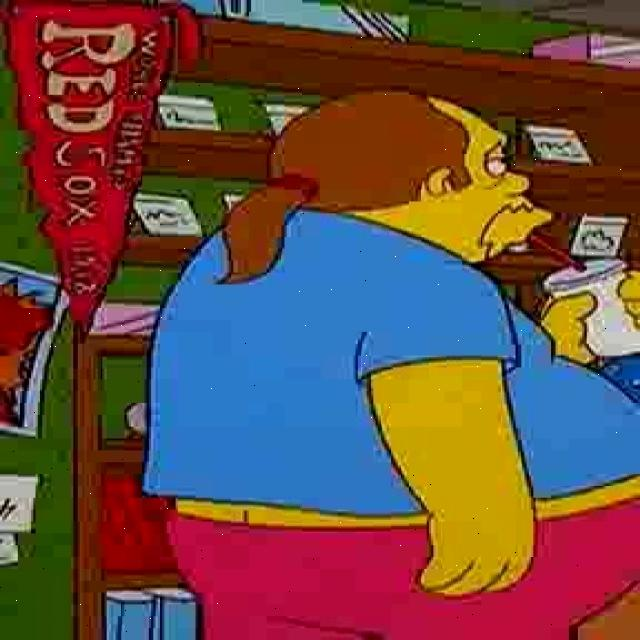Comic Book Guy: (261, 88, 561, 272)
